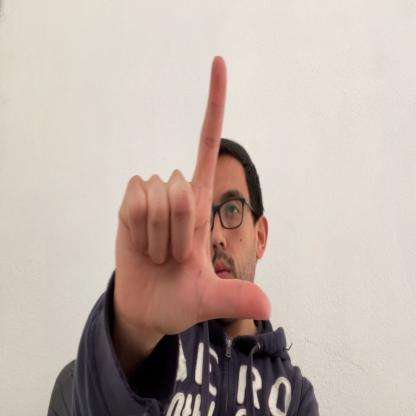L: (114, 55, 271, 330)
